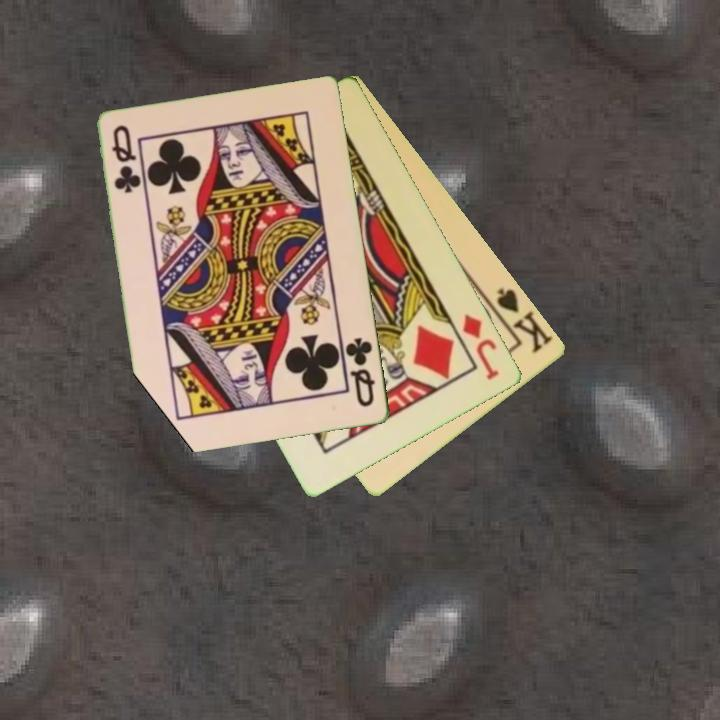Jd: (459, 310, 503, 383)
Ks: (493, 284, 556, 356)
Qc: (342, 334, 378, 411), (108, 121, 143, 197)
